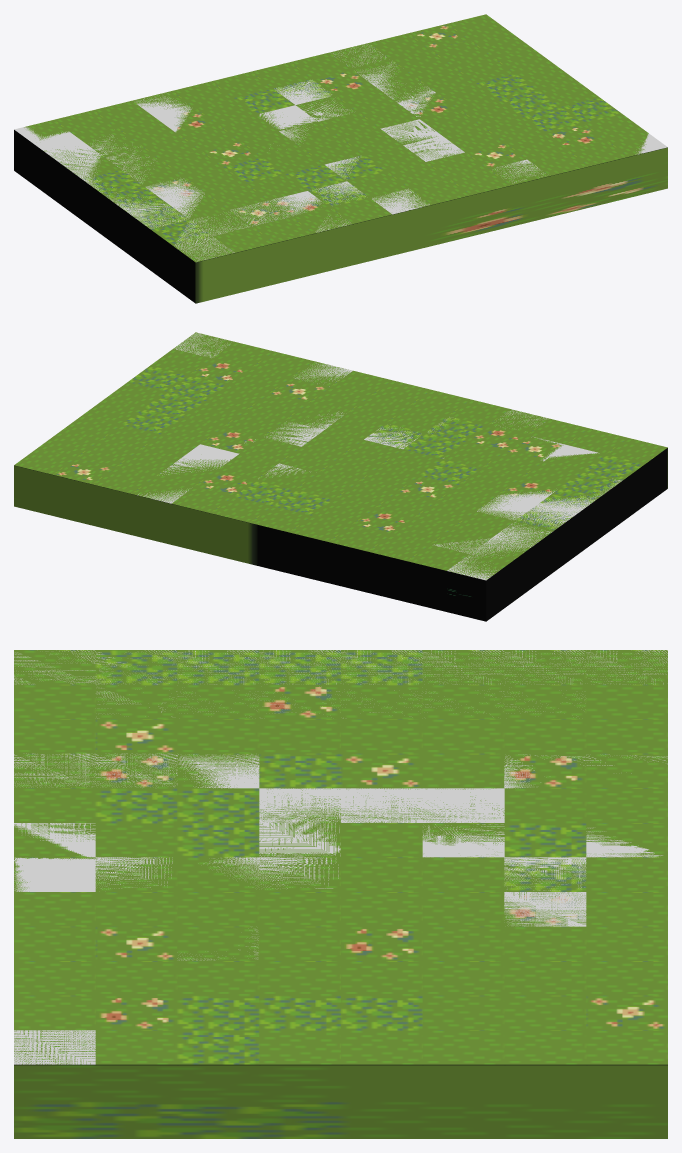
File: level_01.glb
The picture shows the model from 3 angles, top to bottom: view 1: azimuth 30°, elevation 25°; view 2: azimuth 150°, elevation 25°; view 3: azimuth 270°, elevation 25°; orthographic projection. The views are drawn at different scales.
Parts seen in each view (by area): view 1: Terrain, Tiles.029, Tiles.058, Tiles.057, Tiles.067, Tiles.060, Tiles.019, Tiles.094, Tiles.083, Tiles.006, Tiles.025, Tiles.028 (+3 smaller); view 2: Terrain, Tiles.049, Tiles.093, Tiles.027, Tiles.057, Tiles.028, Tiles.026, Tiles.070, Tiles.002, Tiles.016, Tiles.029, Tiles.001; view 3: Terrain, Tiles.073, Tiles.074, Tiles.002, Tiles.075, Tiles.018, Tiles.054, Tiles.069, Tiles.082, Tiles.067, Tiles.019, Tiles.060 (+5 smaller).
Part boxes in pixels (x1,y1,x2,y2): Terrain: (14, 14, 667, 303); Tiles.029: (37, 136, 98, 162); Tiles.058: (403, 136, 464, 161); Tiles.057: (380, 119, 441, 143); Tiles.067: (259, 105, 316, 129); Tiles.060: (274, 80, 331, 104); Tiles.019: (372, 188, 429, 214); Tiles.094: (146, 178, 204, 202); Tiles.083: (270, 191, 321, 215); Tiles.006: (136, 95, 190, 116); Tiles.025: (128, 204, 186, 228); Tiles.028: (60, 153, 101, 179); Terrain: (14, 332, 667, 621); Tiles.049: (178, 444, 239, 468); Tiles.093: (477, 495, 537, 519); Tiles.027: (519, 504, 576, 528); Tiles.057: (266, 421, 323, 446); Tiles.028: (493, 522, 551, 546); Tiles.026: (538, 495, 596, 513); Tiles.070: (364, 426, 419, 448); Tiles.002: (174, 333, 229, 357); Tiles.016: (295, 363, 352, 386); Tiles.029: (470, 537, 530, 557); Tiles.001: (447, 555, 496, 580); Terrain: (14, 650, 667, 1138); Tiles.073: (422, 788, 504, 822); Tiles.074: (341, 788, 422, 822); Tiles.002: (14, 1030, 95, 1064); Tiles.075: (259, 788, 340, 822); Tiles.018: (14, 857, 95, 891); Tiles.054: (504, 892, 586, 926); Tiles.069: (259, 823, 340, 856); Tiles.082: (178, 754, 259, 788); Tiles.067: (422, 824, 504, 857); Tiles.019: (14, 823, 95, 857); Tiles.060: (504, 857, 586, 890).
Size of the model in its own units: 24 by 2 by 16.
Materials: 1 (1 with a texture image).
